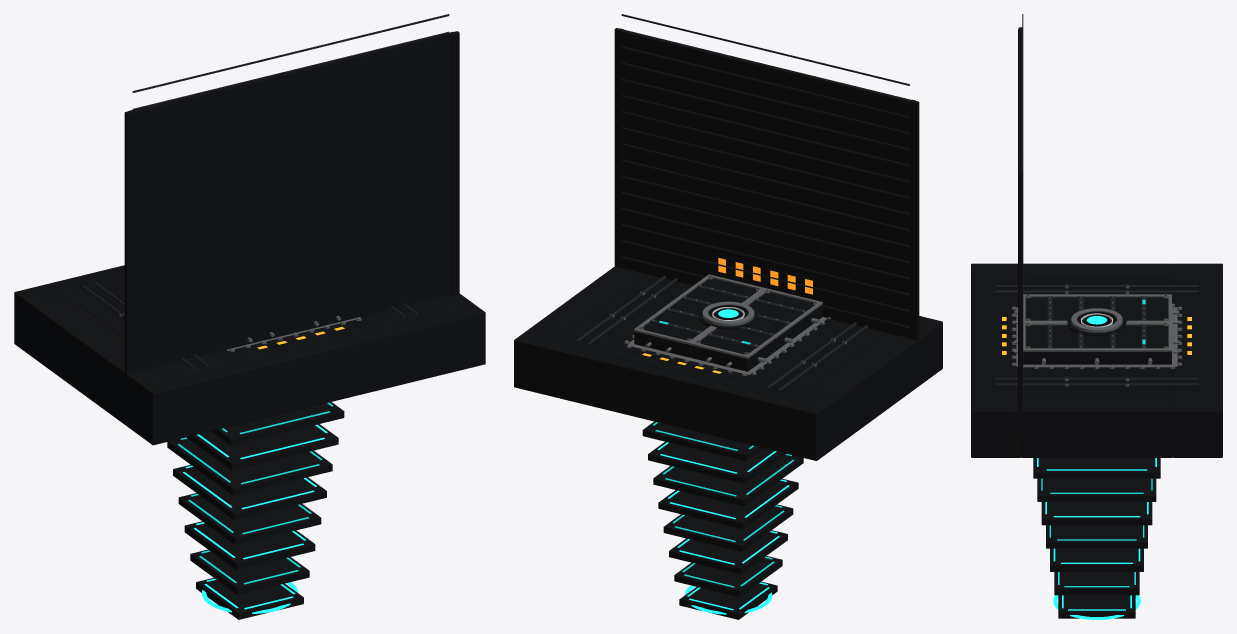
File: auth_door.glb
3 views of the same model, side by side, from view 1: azimuth 30°, elevation 25°; view 2: azimuth 150°, elevation 25°; view 3: azimuth 270°, elevation 25° (orthographic). The views are drawn at different scales.
Visible parts, largest first — view 1: Floor, Wall, Tunnel; view 2: Floor, Wall, Tunnel, Leaf_L, Leaf_R, Core_Mount; view 3: Wall, Tunnel, Leaf_R, Leaf_L, Floor, Core_Mount.
Boxes of the visible parts, x1,y1,x2,y2 form: Floor: (124,14,459,402); Wall: (14,265,485,445); Tunnel: (167,402,344,619); Floor: (614,14,919,366); Wall: (514,266,942,460); Tunnel: (642,421,803,619); Leaf_L: (691,288,822,371); Leaf_R: (634,274,765,357); Core_Mount: (698,301,758,329); Wall: (971,263,1222,457); Tunnel: (1033,458,1160,619); Leaf_R: (1014,322,1179,364); Leaf_L: (1014,294,1179,323); Floor: (1018,14,1023,437); Core_Mount: (1067,308,1126,336).
Size of the model in its own units: 10.8 by 17.82 by 7.8.
